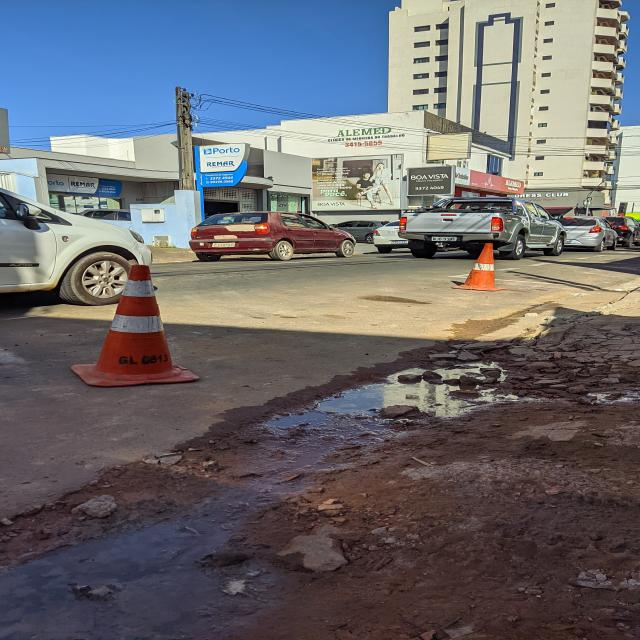cone: (62, 262, 206, 390), (448, 240, 510, 294)
